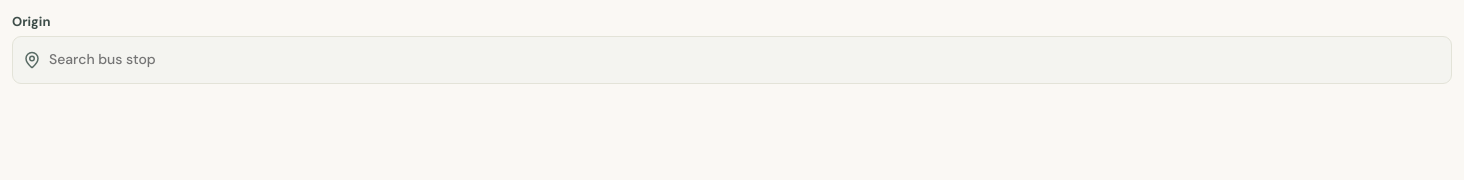
it: actual user states › stop autocomplete supports keyboard selection
The image size is (1464, 180).
Later steps or results of the test are not shown.
In the dropdown: (746, 60) [41,36,1451,82], type "Alpha"
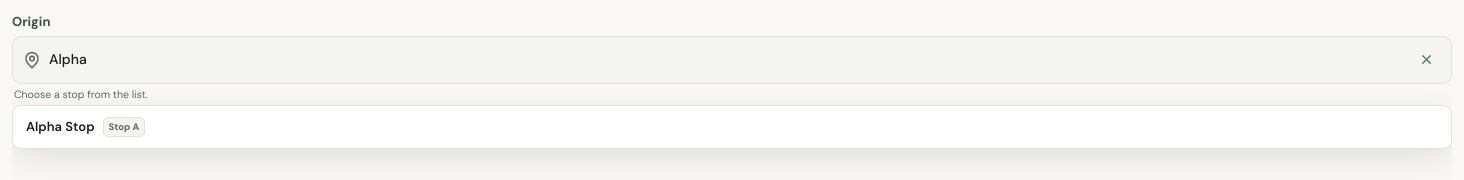
Expected: the option "Alpha Stop Stop A" is shown, [17,110,1447,144]
